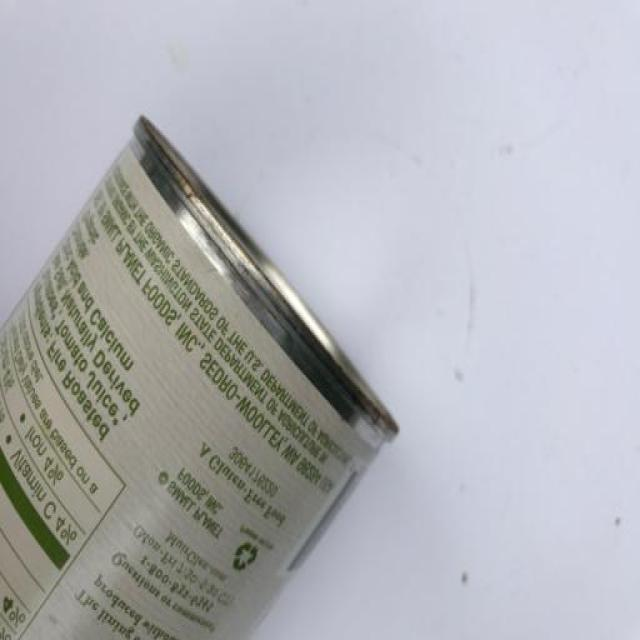Metal: (0, 118, 400, 640)
